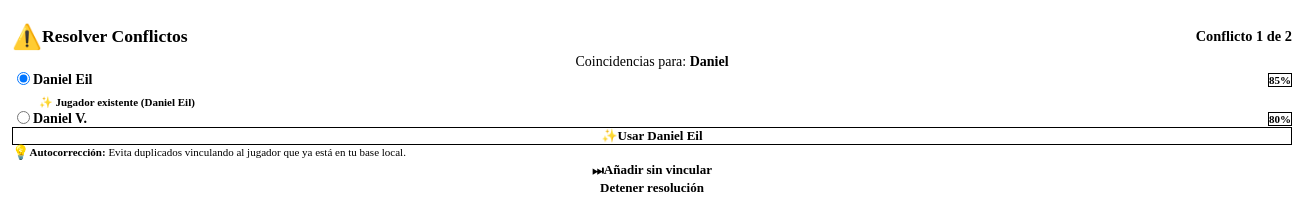
Test: SyncResolutionModal (Grouped 1-to-N) › dynamically changes action buttons based on selected radio option
expect the text "Vincular & Renombrar" is not shown: met
What coordinates should you click on to do the following:
click the radio button labelled "Daniel V. 80%"
I would click on:
 (24, 117)
Its box is x1=17 y1=111 x2=30 y2=124.
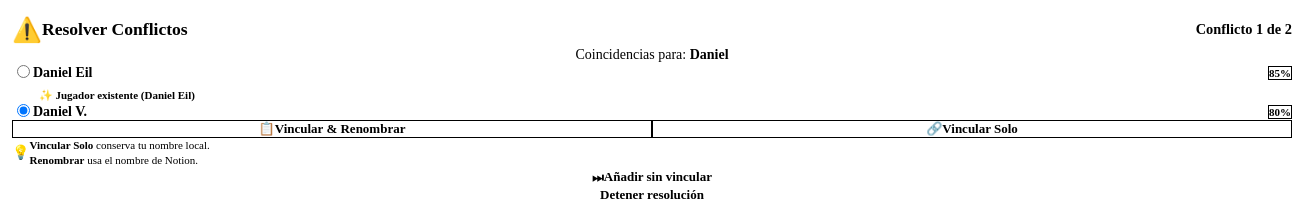
expect the text "Usar Daniel Eil" is gone: met
expect the text "Vincular & Renombrar" is shown: met, box x1=275 y1=121 x2=406 y2=137
expect the text "Vincular Solo" is shown: met, box x1=942 y1=121 x2=1018 y2=137
